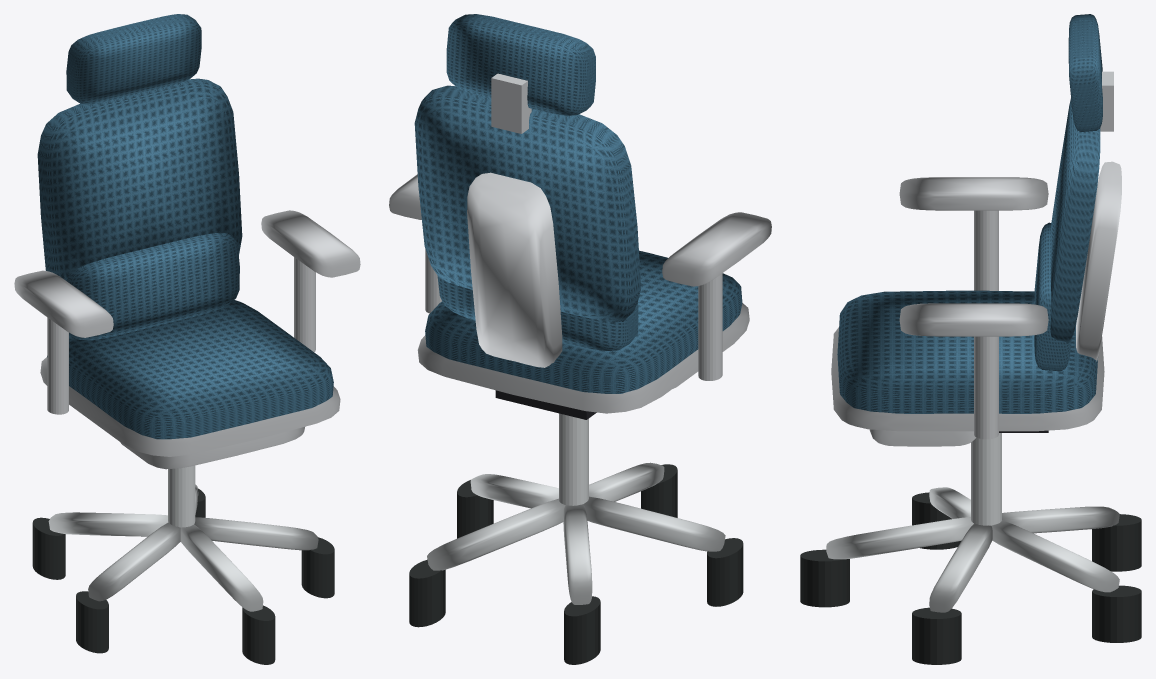
3 views of the same model, side by side, from view 1: azimuth 30°, elevation 25°; view 2: azimuth 150°, elevation 25°; view 3: azimuth 270°, elevation 25° (orthographic). The views are drawn at different scales.
Parts seen in each view (by area): view 1: 3 backrest, 1 seat, 4 lumbar_support, 6 headrest, 2 seat_frame, 9 armrest_left_pad, 11 armrest_right_pad, 23 base_spoke_5, 17 base_spoke_2, 15 base_spoke_1, 21 base_spoke_4, 12 footrest_stowed (+7 smaller); view 2: 3 backrest, 5 backrest_spine, 1 seat, 6 headrest, 2 seat_frame, 9 armrest_left_pad, 23 base_spoke_5, 19 base_spoke_3, 4 lumbar_support, 14 gas_lift, 8 armrest_left_post, 21 base_spoke_4 (+11 smaller); view 3: 1 seat, 3 backrest, 2 seat_frame, 5 backrest_spine, 9 armrest_left_pad, 11 armrest_right_pad, 6 headrest, 19 base_spoke_3, 15 base_spoke_1, 18 caster_wheel_2, 14 gas_lift, 20 caster_wheel_3 (+11 smaller).
Part boxes in pixels (bbox=[...]): 3 backrest: bbox=[37, 78, 242, 280]; 1 seat: bbox=[47, 300, 333, 439]; 4 lumbar_support: bbox=[66, 233, 239, 340]; 6 headrest: bbox=[66, 14, 201, 104]; 2 seat_frame: bbox=[40, 357, 340, 456]; 9 armrest_left_pad: bbox=[14, 270, 113, 337]; 11 armrest_right_pad: bbox=[261, 210, 360, 277]; 23 base_spoke_5: bbox=[88, 522, 180, 601]; 17 base_spoke_2: bbox=[194, 517, 318, 550]; 15 base_spoke_1: bbox=[180, 524, 263, 611]; 21 base_spoke_4: bbox=[48, 512, 168, 536]; 12 footrest_stowed: bbox=[120, 427, 304, 469]; 3 backrest: bbox=[414, 85, 640, 322]; 5 backrest_spine: bbox=[467, 172, 562, 367]; 1 seat: bbox=[425, 250, 742, 393]; 6 headrest: bbox=[446, 14, 595, 115]; 2 seat_frame: bbox=[417, 303, 749, 413]; 9 armrest_left_pad: bbox=[662, 212, 771, 286]; 23 base_spoke_5: bbox=[583, 496, 725, 551]; 19 base_spoke_3: bbox=[427, 498, 565, 570]; 4 lumbar_support: bbox=[437, 275, 638, 350]; 14 gas_lift: bbox=[559, 413, 588, 505]; 8 armrest_left_post: bbox=[698, 273, 722, 380]; 21 base_spoke_4: bbox=[563, 504, 592, 604]; 1 seat: bbox=[837, 290, 1097, 413]; 3 backrest: bbox=[1050, 99, 1100, 343]; 2 seat_frame: bbox=[831, 327, 1104, 431]; 5 backrest_spine: bbox=[1076, 161, 1121, 361]; 9 armrest_left_pad: bbox=[899, 177, 1048, 210]; 11 armrest_right_pad: bbox=[899, 303, 1048, 336]; 6 headrest: bbox=[1068, 14, 1102, 131]; 19 base_spoke_3: bbox=[991, 520, 1119, 592]; 15 base_spoke_1: bbox=[826, 517, 973, 559]; 18 caster_wheel_2: bbox=[912, 607, 961, 664]; 14 gas_lift: bbox=[971, 433, 1001, 525]; 20 caster_wheel_3: bbox=[1092, 585, 1141, 642].
Size of the model in its own units: 0.56 by 1 by 0.55.
5 materials, 1 textured.
